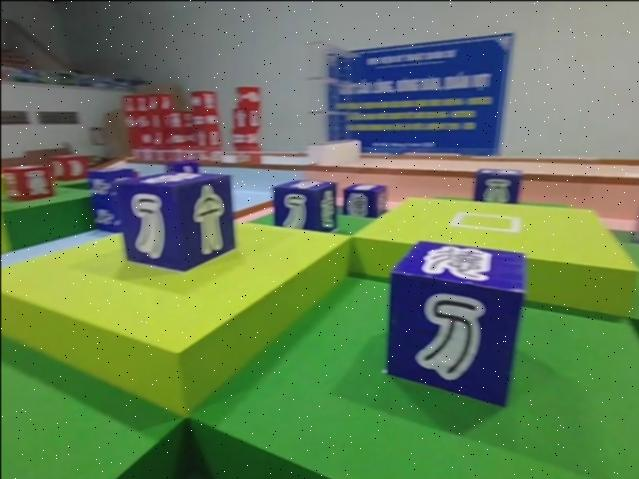R2 Fake Blue: (390, 238, 530, 410), (114, 173, 237, 276), (271, 181, 337, 236), (471, 166, 524, 204), (341, 184, 387, 220)
